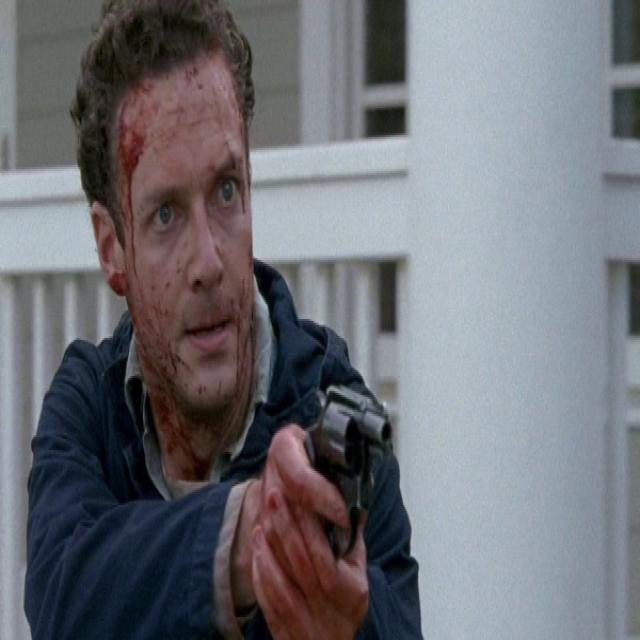weapons: (282, 345, 406, 586)
